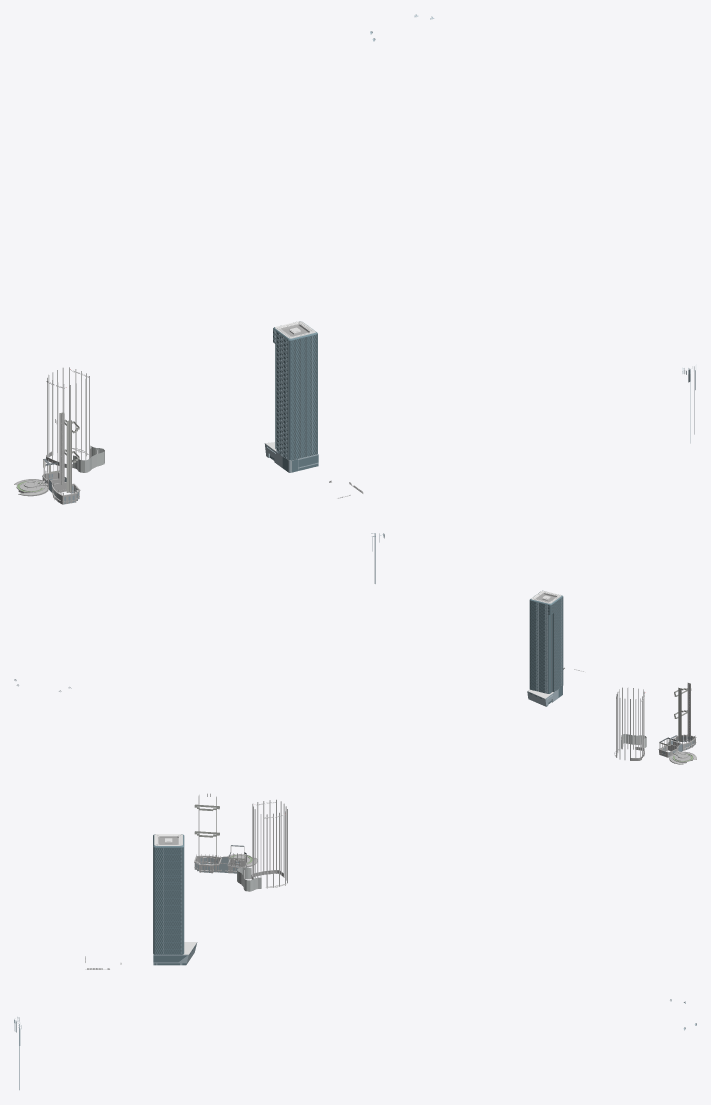
Rendered from lujiazui-25.glb.
The picture shows the model from 3 angles, top to bottom: view 1: azimuth 30°, elevation 25°; view 2: azimuth 150°, elevation 25°; view 3: azimuth 270°, elevation 25°; orthographic projection. The views are drawn at different scales.
Parts seen in each view (by area): view 1: source_2994_Mat3d66-1303573-2120-8235_part0, source_2993_Mat3d66-1303573-2119-613_part0, source_2955_未来资产大厦_柱_part0; view 2: source_2994_Mat3d66-1303573-2120-8235_part0, source_2993_Mat3d66-1303573-2119-613_part0, source_2955_未来资产大厦_柱_part0, source_2968_震旦大厦-墙贴图2_part0, source_2963__part0; view 3: source_2994_Mat3d66-1303573-2120-8235_part0, source_2955_未来资产大厦_柱_part0, source_2993_Mat3d66-1303573-2119-613_part0.
Part boxes in pixels (<box>): source_2994_Mat3d66-1303573-2120-8235_part0: <box>270,321,318,472</box>; source_2993_Mat3d66-1303573-2119-613_part0: <box>264,329,318,472</box>; source_2955_未来资产大厦_柱_part0: <box>47,367,97,461</box>; source_2994_Mat3d66-1303573-2120-8235_part0: <box>529,590,563,704</box>; source_2993_Mat3d66-1303573-2119-613_part0: <box>527,597,562,706</box>; source_2955_未来资产大厦_柱_part0: <box>616,687,645,760</box>; source_2968_震旦大厦-墙贴图2_part0: <box>658,734,696,764</box>; source_2963__part0: <box>659,683,690,745</box>; source_2994_Mat3d66-1303573-2120-8235_part0: <box>153,834,195,965</box>; source_2955_未来资产大厦_柱_part0: <box>238,799,287,888</box>; source_2993_Mat3d66-1303573-2119-613_part0: <box>153,847,197,965</box>.
Size of the model in its own units: 1105 by 214 by 1097.
